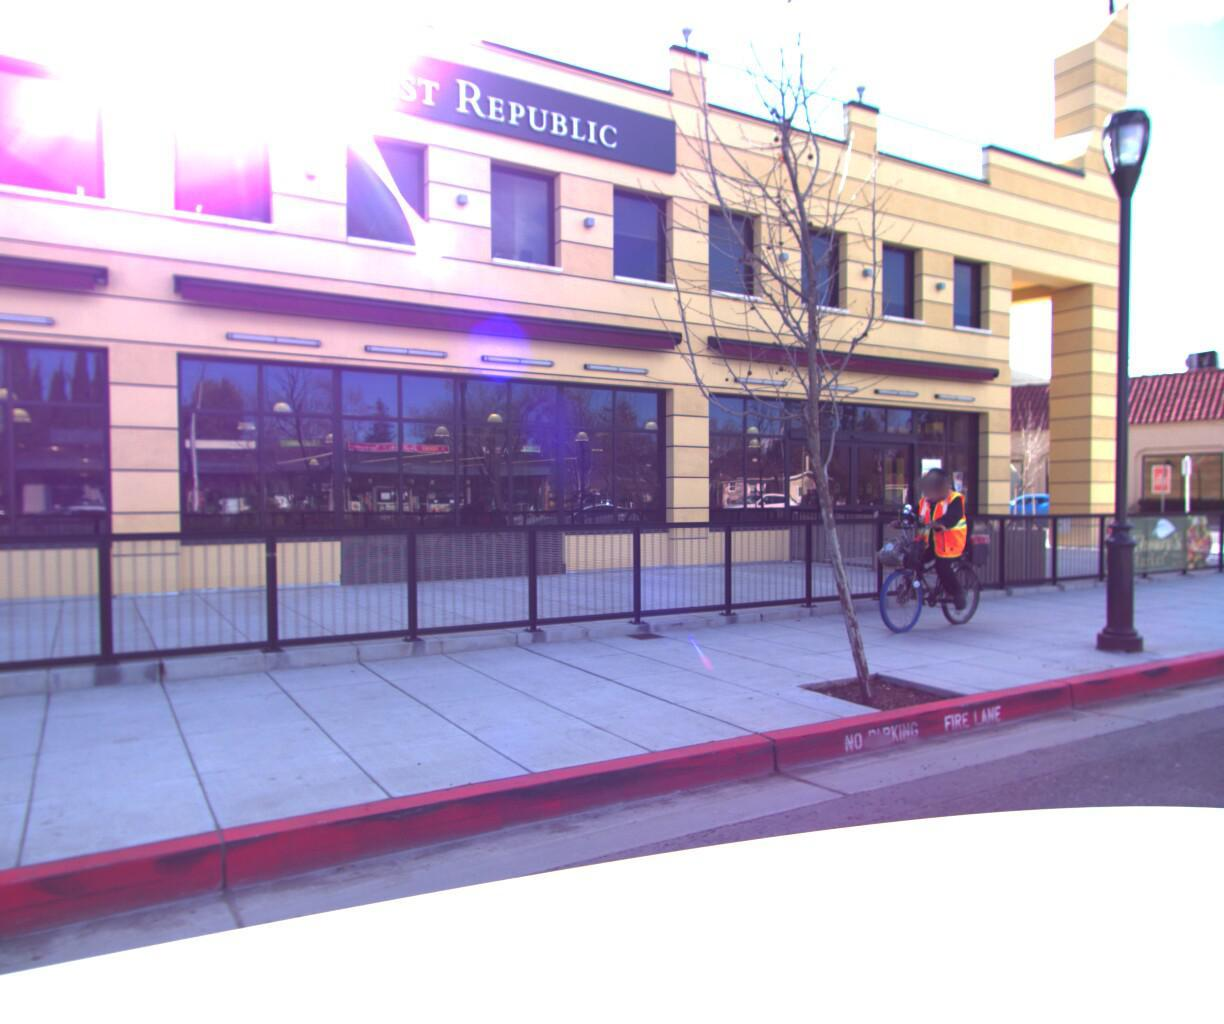bicycle: (850, 451, 1026, 630)
car: (968, 489, 1107, 528)
